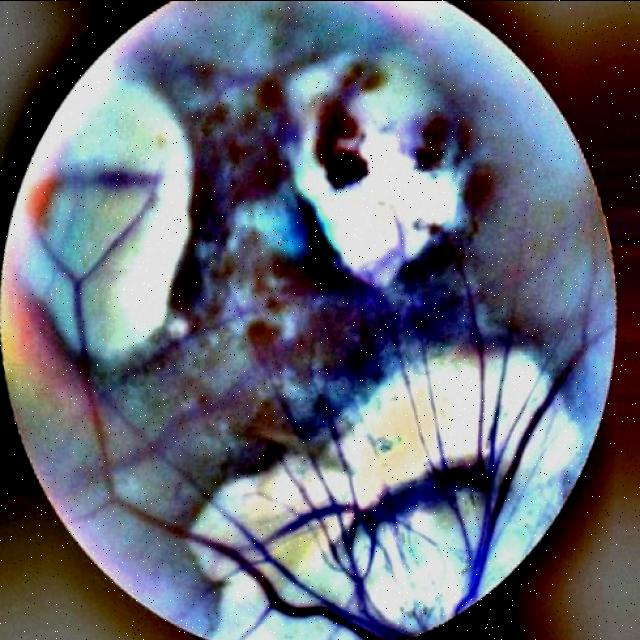Macula: (315, 62, 386, 187)
Nerves: (76, 282, 292, 618), (260, 370, 364, 583), (513, 298, 596, 475)
Optic Disk: (192, 352, 539, 640), (485, 428, 575, 590), (364, 514, 466, 633)
